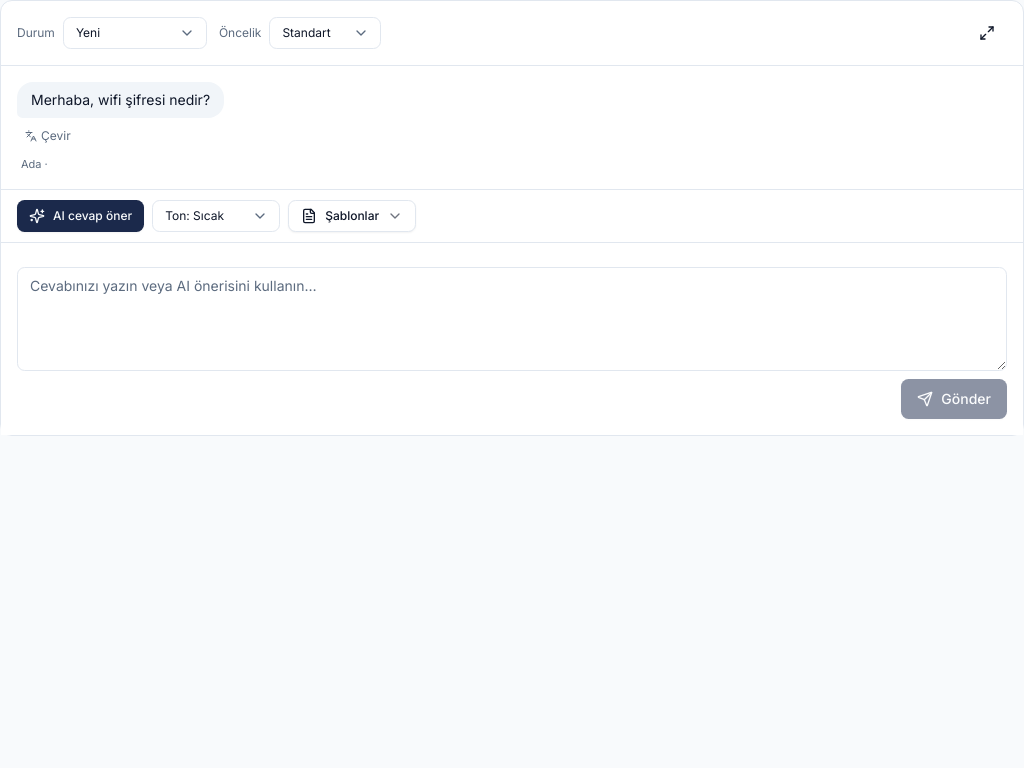
Scenario: ConversationThread — şablon açılır yüzeyi dialog sözleşmesi › tetikleyici durumu bildirir; panel ADLANDIRILMIŞ bir dialog'dur
Click the button "Şablonlar": (352, 216) [288, 200, 416, 232]
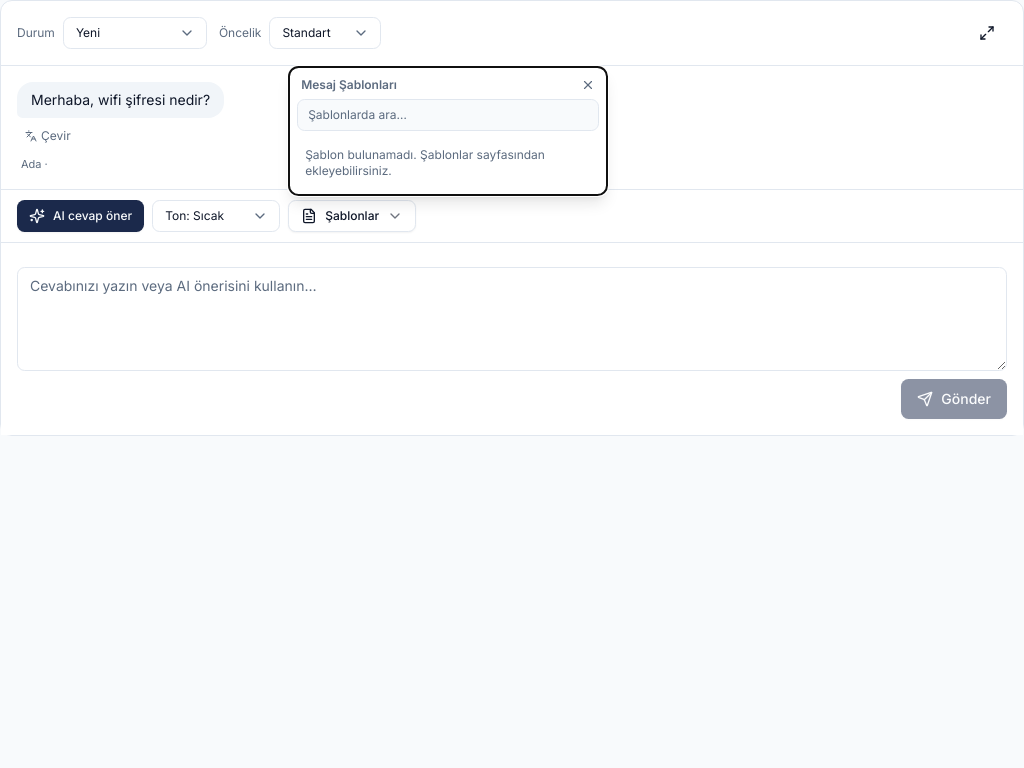
Expected: the text "Mesaj Şablonları" is shown, [301, 76, 397, 92]
